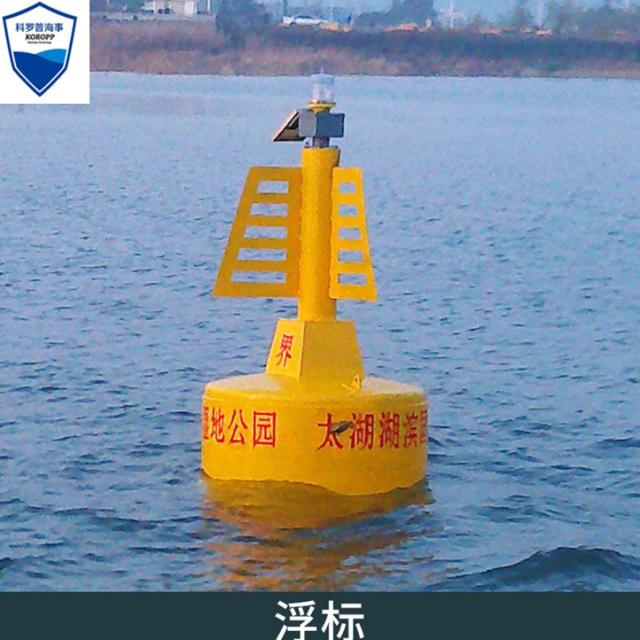buoy: (191, 55, 434, 488)
